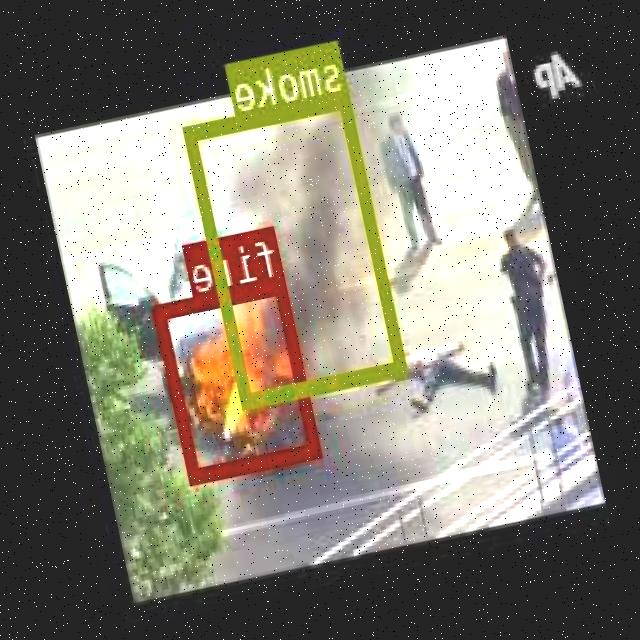fire: (154, 274, 324, 480)
smoke: (186, 90, 409, 405)
